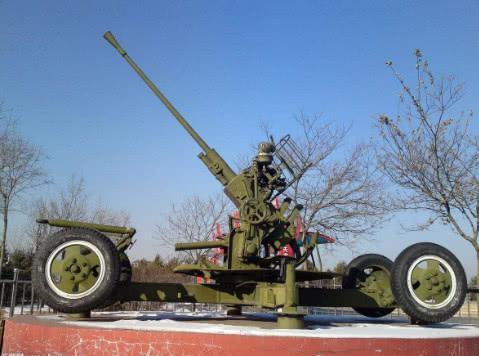MIL_SPG: (32, 32, 468, 328)
